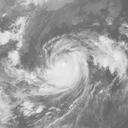cyclone: (37, 38, 90, 97)
